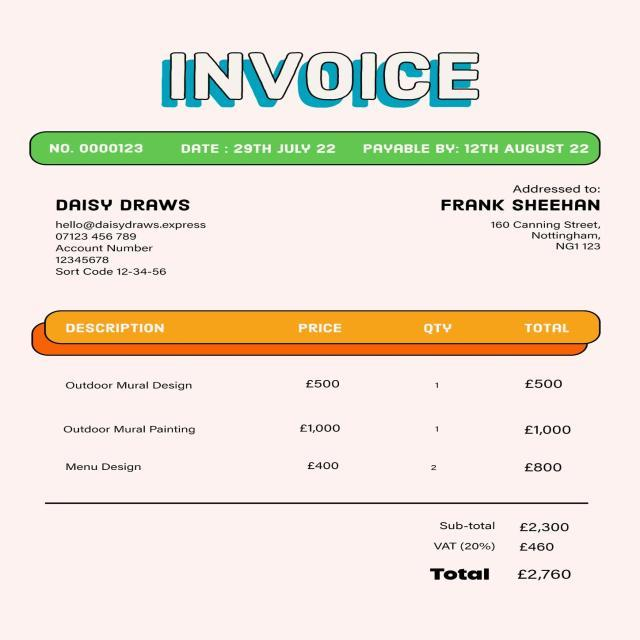ROI: (27, 310, 598, 480), (155, 43, 487, 118), (23, 128, 597, 166), (39, 186, 214, 284), (425, 172, 626, 256), (409, 512, 585, 598)
